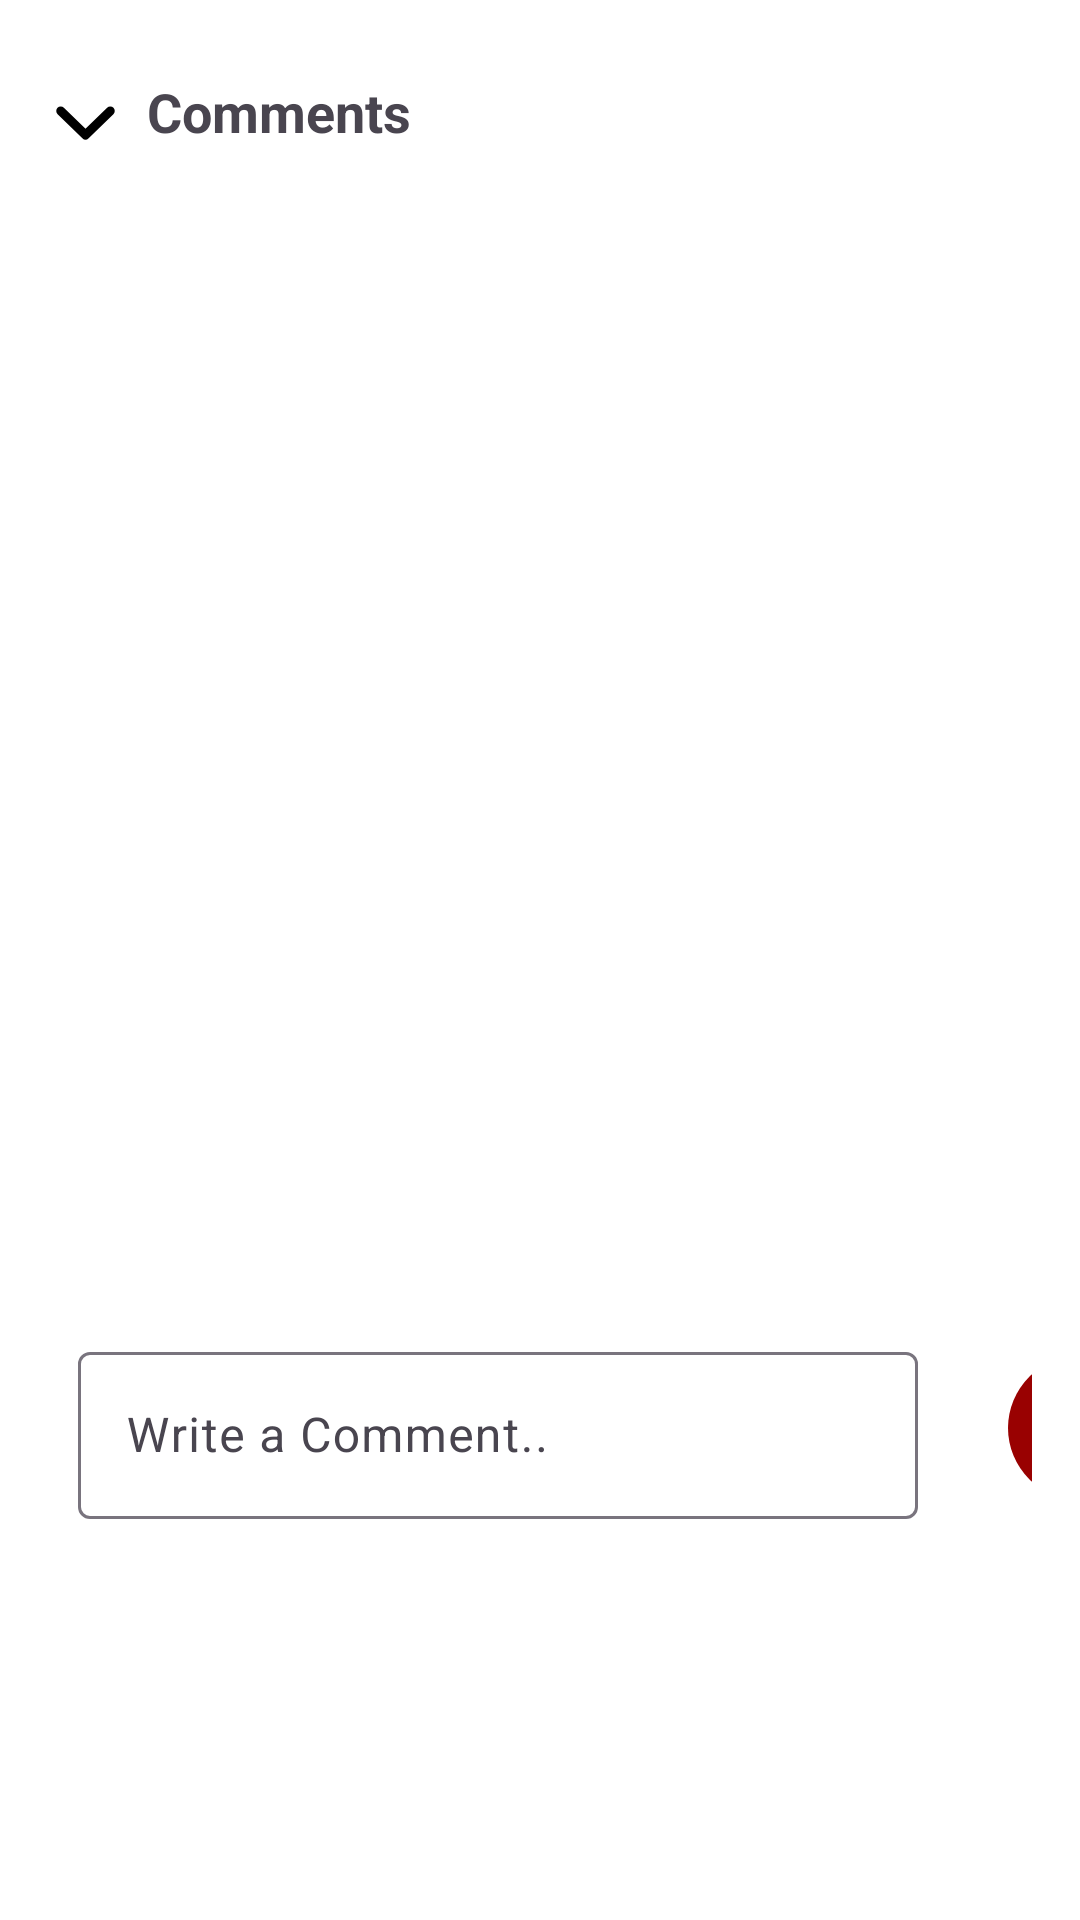

Named icons in this screenshot (1080x1920) and their bounding boxes, [x1, y1, x2, y2]:
down arrow: [56, 106, 115, 140]
